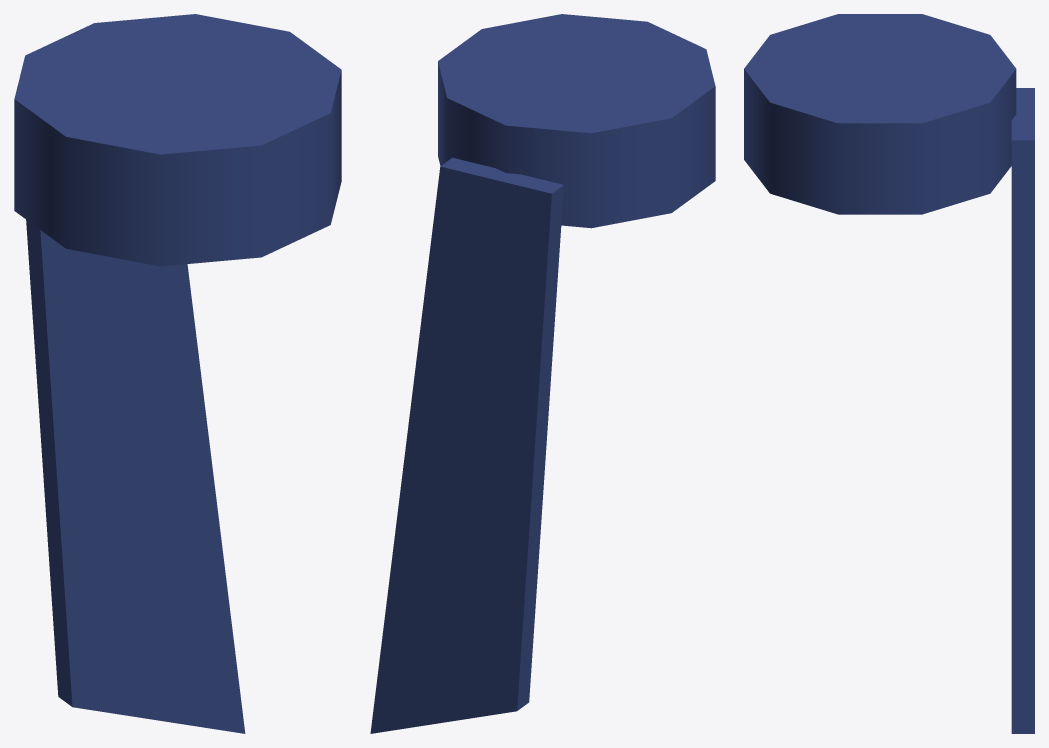
Rendered from ninja-scarf.glb.
3 renders of one model, left to right at view 1: azimuth 30°, elevation 25°; view 2: azimuth 150°, elevation 25°; view 3: azimuth 270°, elevation 25°, orthographic. The views are drawn at different scales.
Parts seen in each view (by area): view 1: ScarfTail, NeckWrap; view 2: ScarfTail, NeckWrap; view 3: NeckWrap, ScarfTail.
Boxes of the visible parts, left/top/right/bottom form: ScarfTail: left=26, top=219, right=245, bottom=733; NeckWrap: left=14, top=14, right=341, bottom=266; ScarfTail: left=370, top=157, right=563, bottom=733; NeckWrap: left=438, top=14, right=715, bottom=228; NeckWrap: left=744, top=14, right=1016, bottom=214; ScarfTail: left=1011, top=88, right=1034, bottom=733.
Bounding box in the file's own units: 0.1737 × 0.4325 × 0.188.
